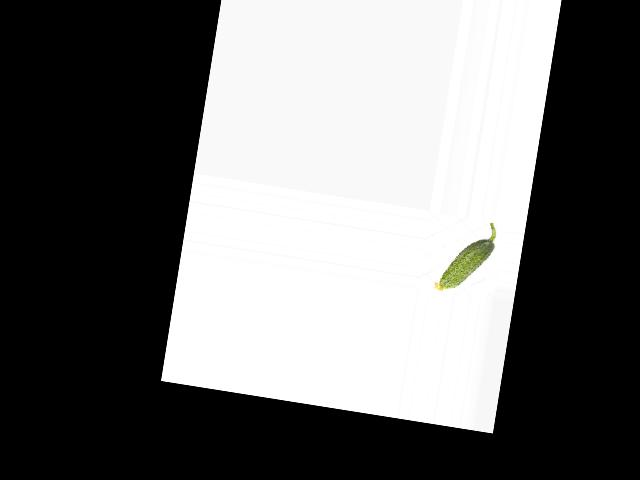cucumber: (432, 216, 498, 298)
